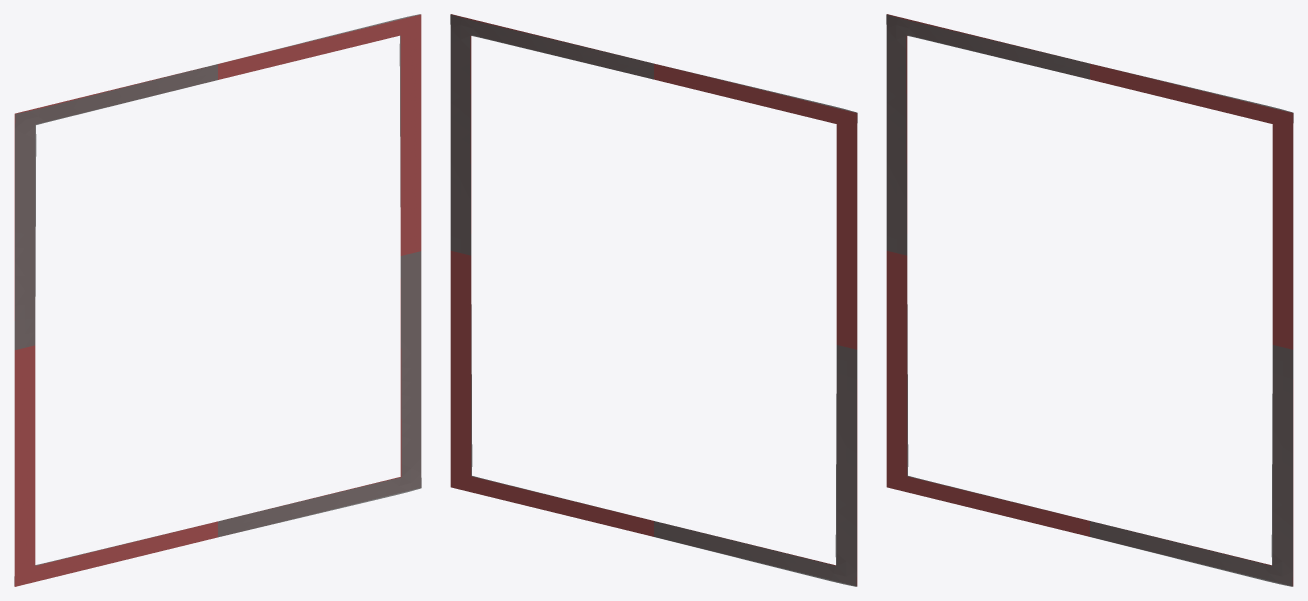
Rendered from warping-box-177-159-6-8-369.glb.
The picture shows the model from 3 angles, left to right: view 1: azimuth 30°, elevation 25°; view 2: azimuth 150°, elevation 25°; view 3: azimuth 330°, elevation 25°; orthographic projection.
Parts seen in each view (by area): view 1: undeformed cross-section, cross-section with warping; view 2: undeformed cross-section, cross-section with warping; view 3: undeformed cross-section, cross-section with warping.
Boxes of the visible parts, box(x1,y1,x2,y2) form: undeformed cross-section: box(14, 14, 421, 586); cross-section with warping: box(14, 14, 421, 585); undeformed cross-section: box(450, 14, 857, 586); cross-section with warping: box(450, 14, 857, 586); undeformed cross-section: box(886, 14, 1293, 586); cross-section with warping: box(886, 14, 1293, 586).
Bounding box in the file's own units: 0.159 × 0.177 × 0.00162.
